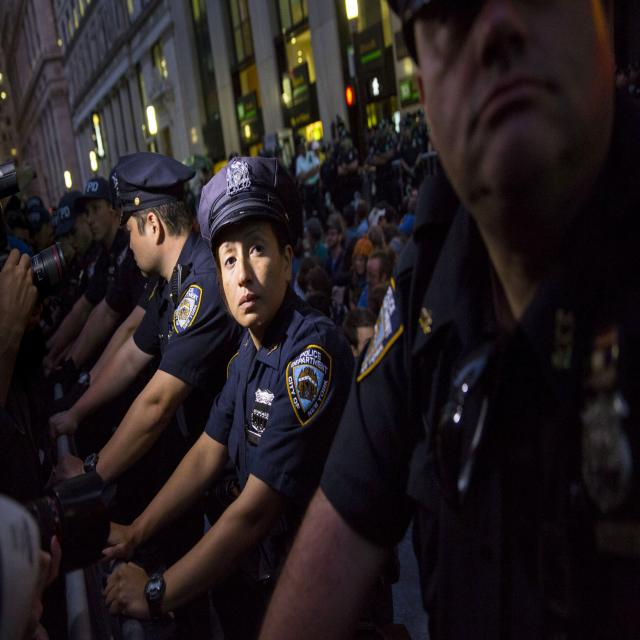police: (94, 155, 334, 624), (52, 150, 228, 502)
